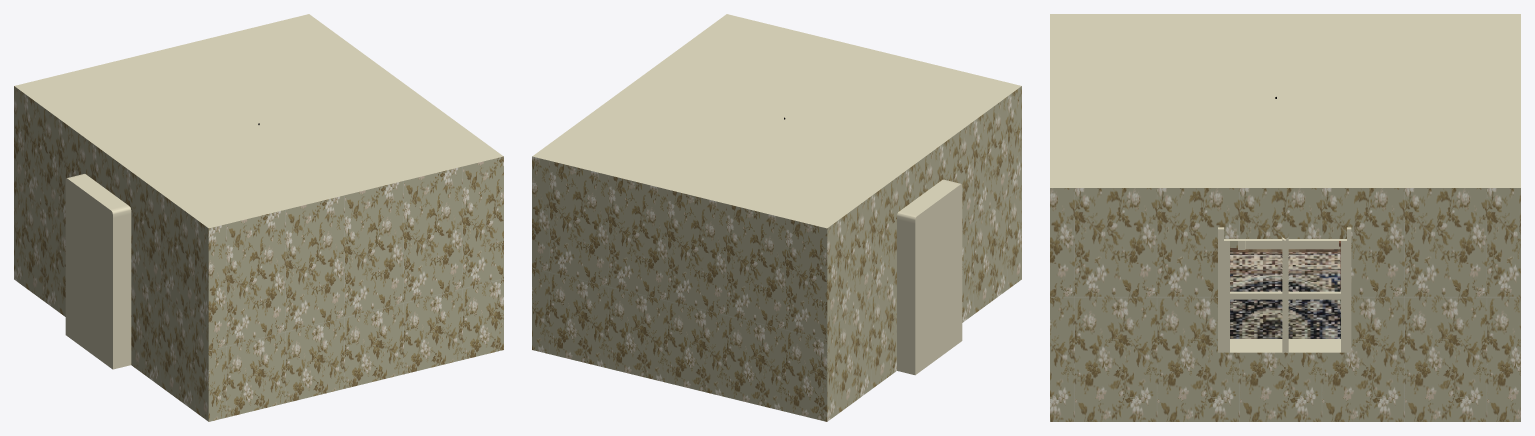
Rendered from room.fbx.
3 renders of one model, left to right at view 1: azimuth 30°, elevation 25°; view 2: azimuth 150°, elevation 25°; view 3: azimuth 270°, elevation 25°, orthographic. The views are drawn at different scales.
Parts seen in each view (by area): view 1: room; view 2: room; view 3: room, room.001.
Boxes of the visible parts, bbox=[...] form: room: bbox=[14, 14, 503, 421]; room: bbox=[532, 14, 1021, 421]; room: bbox=[1050, 14, 1520, 421]; room.001: bbox=[1218, 227, 1351, 353].
Size of the model in its own units: 1326 by 781 by 1413.
Materials: 17 (10 with a texture image).
